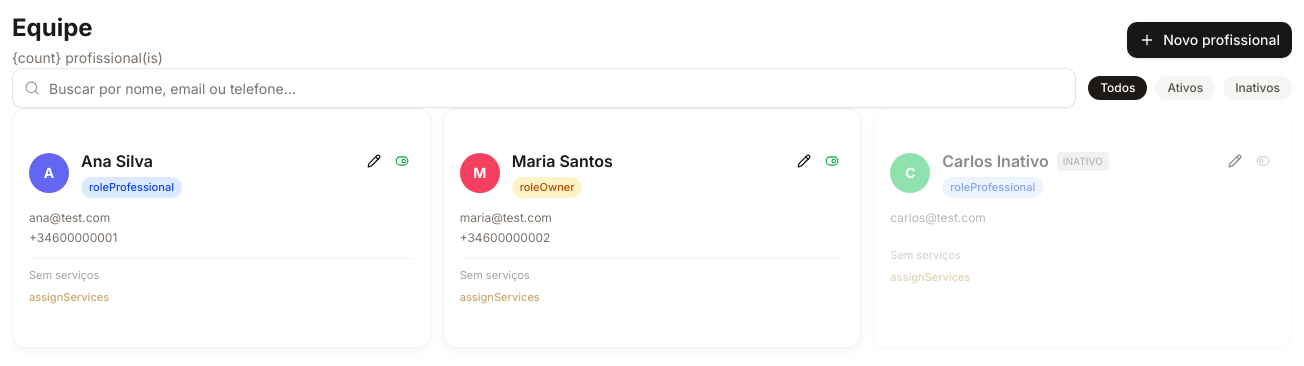
Scenario: EquipeList › should filter by search text
Step 1. Type "Ana" into the field with placeholder "Buscar por nome, email ou telefone..." → (544, 88), box [12,68,1076,108]
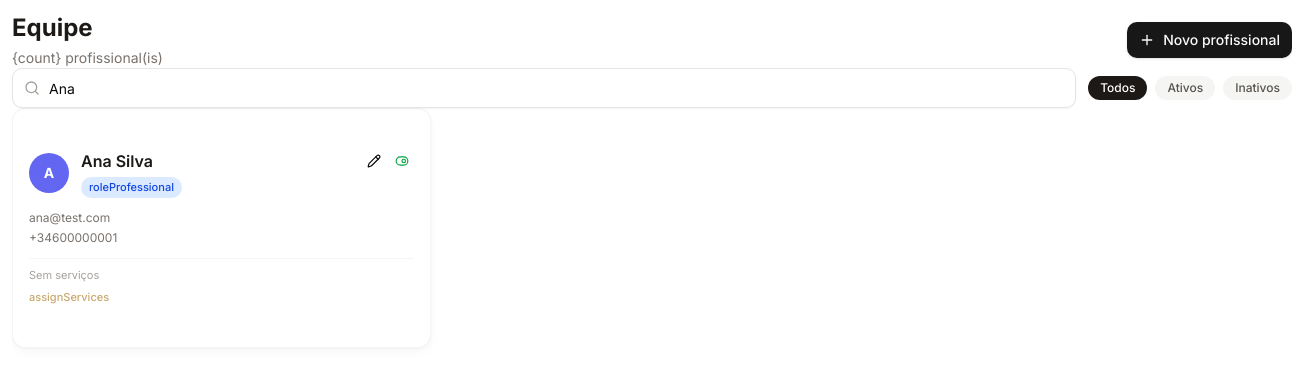
Expected: the heading "Ana Silva" is shown, [81,149,153,173]
Now the heading "Maria Santos" is gone
Now the heading "Carlos Inativo" is gone
